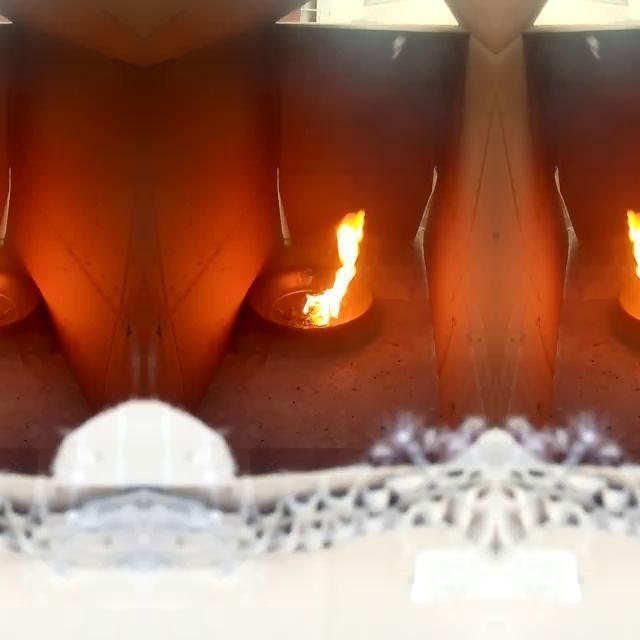smoke: (300, 207, 366, 326), (626, 206, 640, 325)
